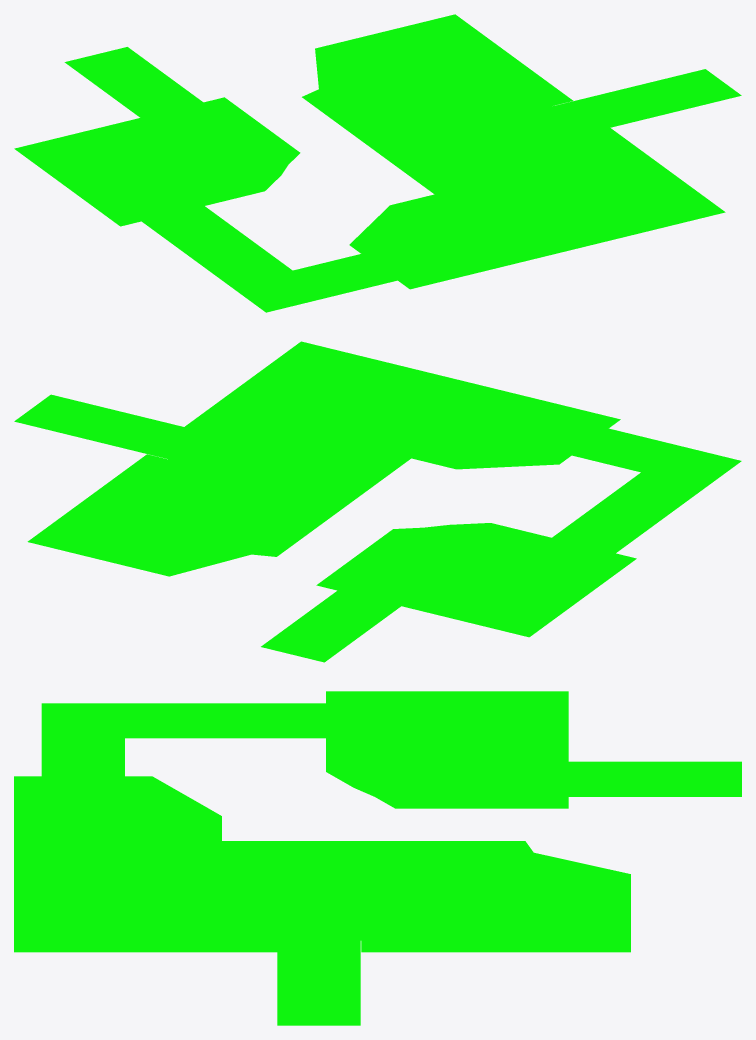
File: s05a_lc1-floor.glb
3 renders of one model, top to bottom at view 1: azimuth 30°, elevation 25°; view 2: azimuth 150°, elevation 25°; view 3: azimuth 270°, elevation 25°, orthographic. The views are drawn at different scales.
Parts seen in each view (by area): view 1: collision_floor-colonly; view 2: collision_floor-colonly; view 3: collision_floor-colonly.
Boxes of the visible parts, bbox=[...] form: collision_floor-colonly: bbox=[14, 14, 741, 312]; collision_floor-colonly: bbox=[14, 341, 741, 662]; collision_floor-colonly: bbox=[14, 691, 741, 1025].
Size of the model in its own units: 57 by 0 by 52.5.
